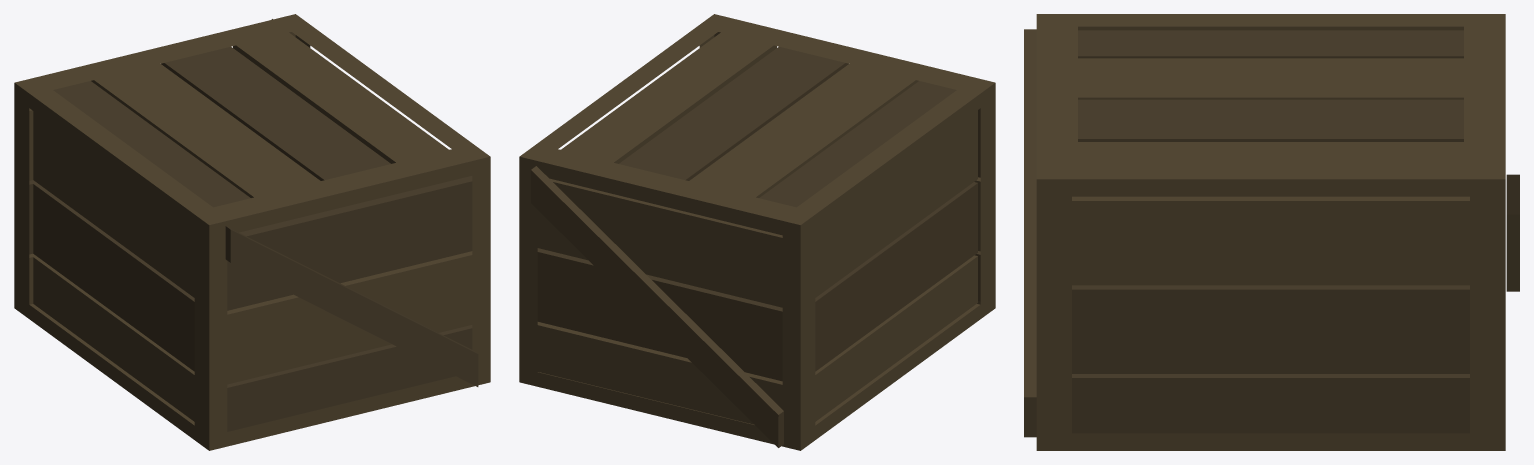
File: caja.fbx
3 renders of one model, left to right at view 1: azimuth 30°, elevation 25°; view 2: azimuth 150°, elevation 25°; view 3: azimuth 270°, elevation 25°, orthographic. The views are drawn at different scales.
Visible parts, largest first — view 1: Cube; view 2: Cube; view 3: Cube.
Boxes of the visible parts, x1,y1,x2,y2 form: Cube: [14, 14, 490, 450]; Cube: [519, 14, 995, 450]; Cube: [1024, 14, 1519, 450].
Size of the model in its own units: 50.86 by 39.01 by 64.5.
